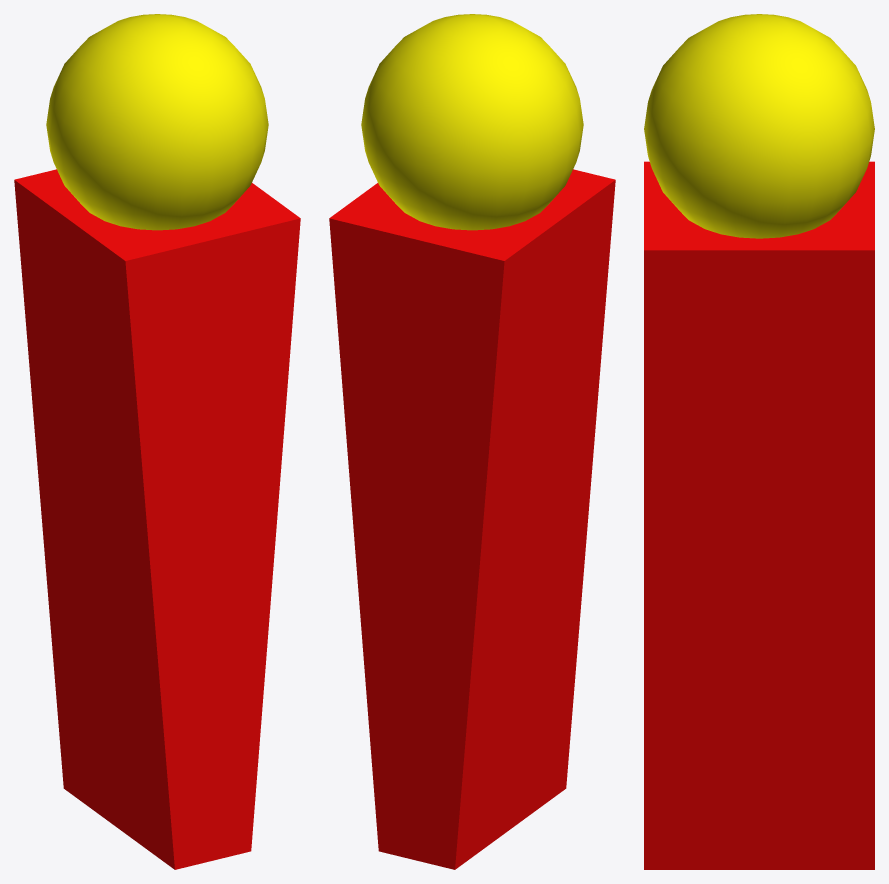
File: Test_Typ.fbx
3 renders of one model, left to right at view 1: azimuth 30°, elevation 25°; view 2: azimuth 150°, elevation 25°; view 3: azimuth 270°, elevation 25°, orthographic. The views are drawn at different scales.
Parts seen in each view (by area): view 1: Würfel, Kugel; view 2: Würfel, Kugel; view 3: Würfel, Kugel.
Boxes of the visible parts, x1=… form: Würfel: x1=14, y1=169, x2=300, y2=869; Kugel: x1=46, y1=14, x2=268, y2=230; Würfel: x1=329, y1=169, x2=615, y2=869; Kugel: x1=361, y1=14, x2=583, y2=230; Würfel: x1=644, y1=161, x2=874, y2=869; Kugel: x1=644, y1=14, x2=874, y2=238.
Size of the model in its own units: 200 by 790 by 200.
